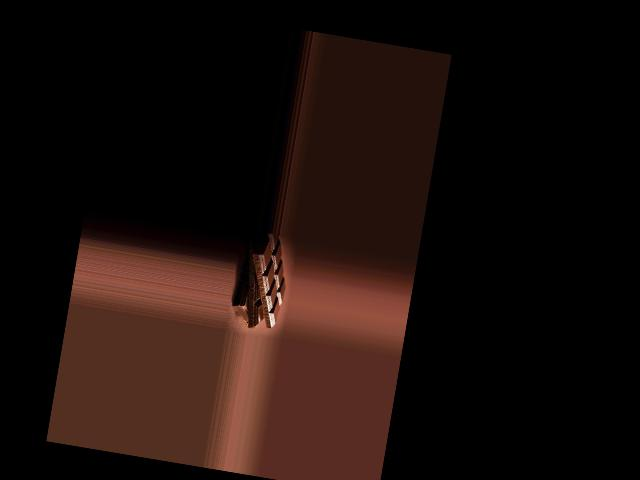chocolate: (235, 232, 292, 331)
